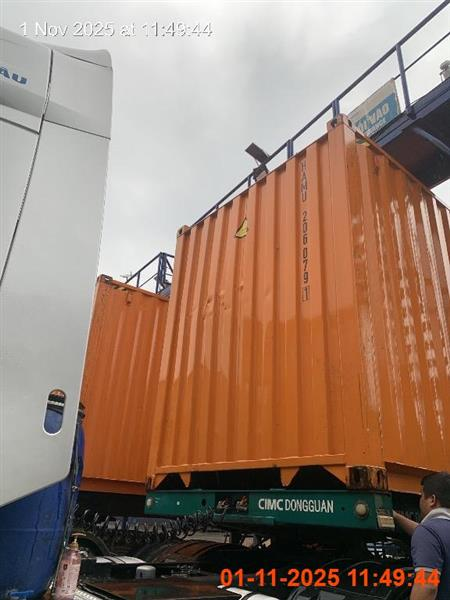crack: (1, 26, 113, 599), (408, 471, 449, 599)
